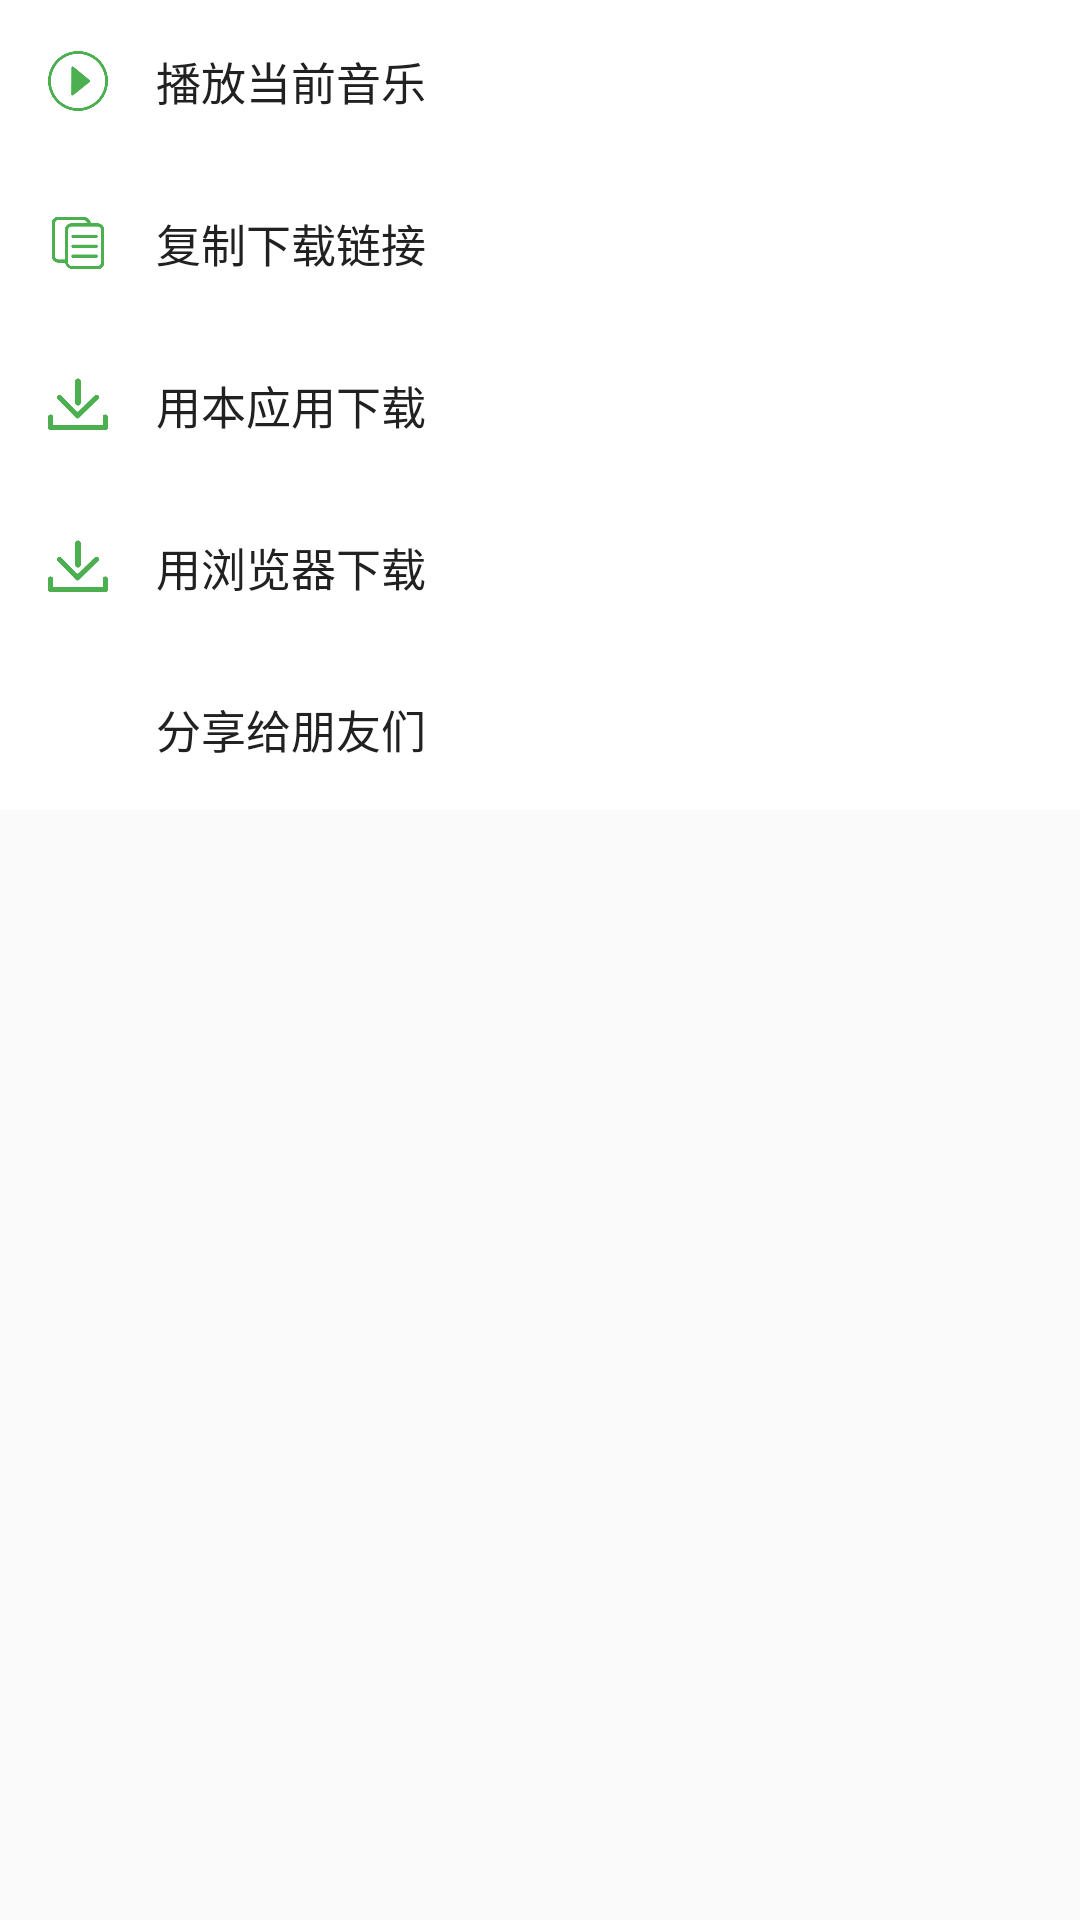

Icons on this 1080 × 1920 Android screen, each with its box as [x1=x1, y1=y1, x2=x2, y2=y2]:
download: [x1=48, y1=378, x2=108, y2=430], [x1=48, y1=540, x2=108, y2=592]
music item play: [x1=48, y1=51, x2=108, y2=111]
